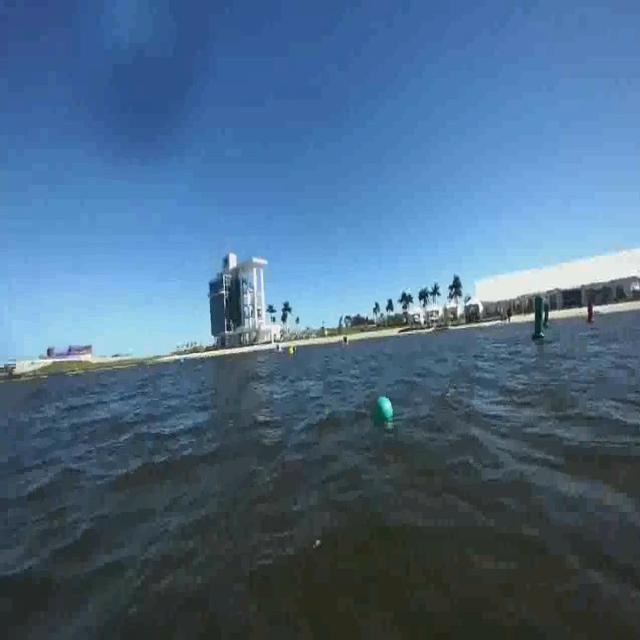green-buoy: (374, 398, 394, 426)
green-column-buoy: (531, 296, 546, 342), (544, 306, 548, 332)
red-column-buoy: (587, 300, 596, 324)
yellow-buoy: (289, 348, 295, 354)
